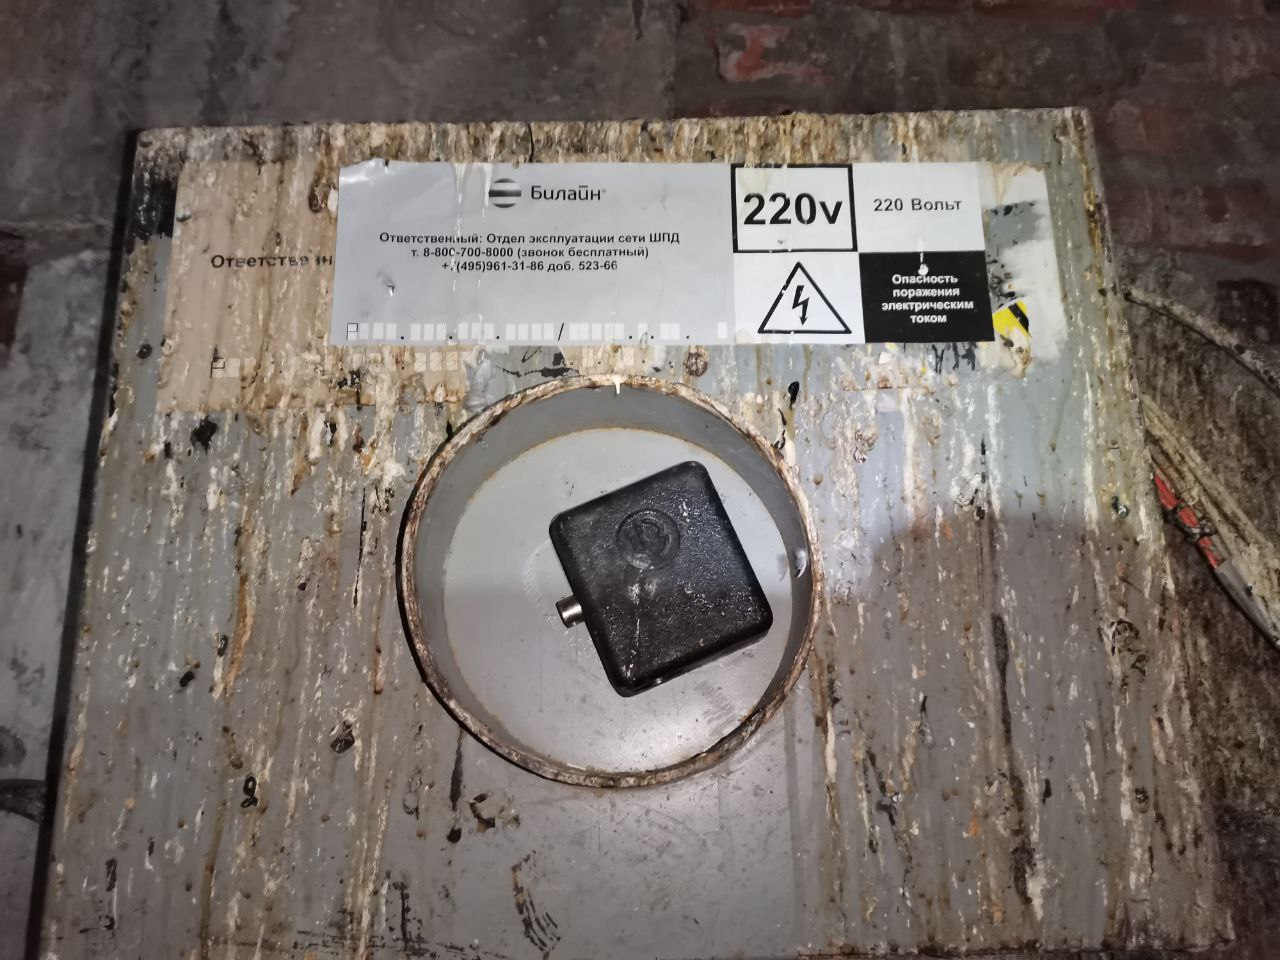shta-3: (32, 100, 1240, 956)
